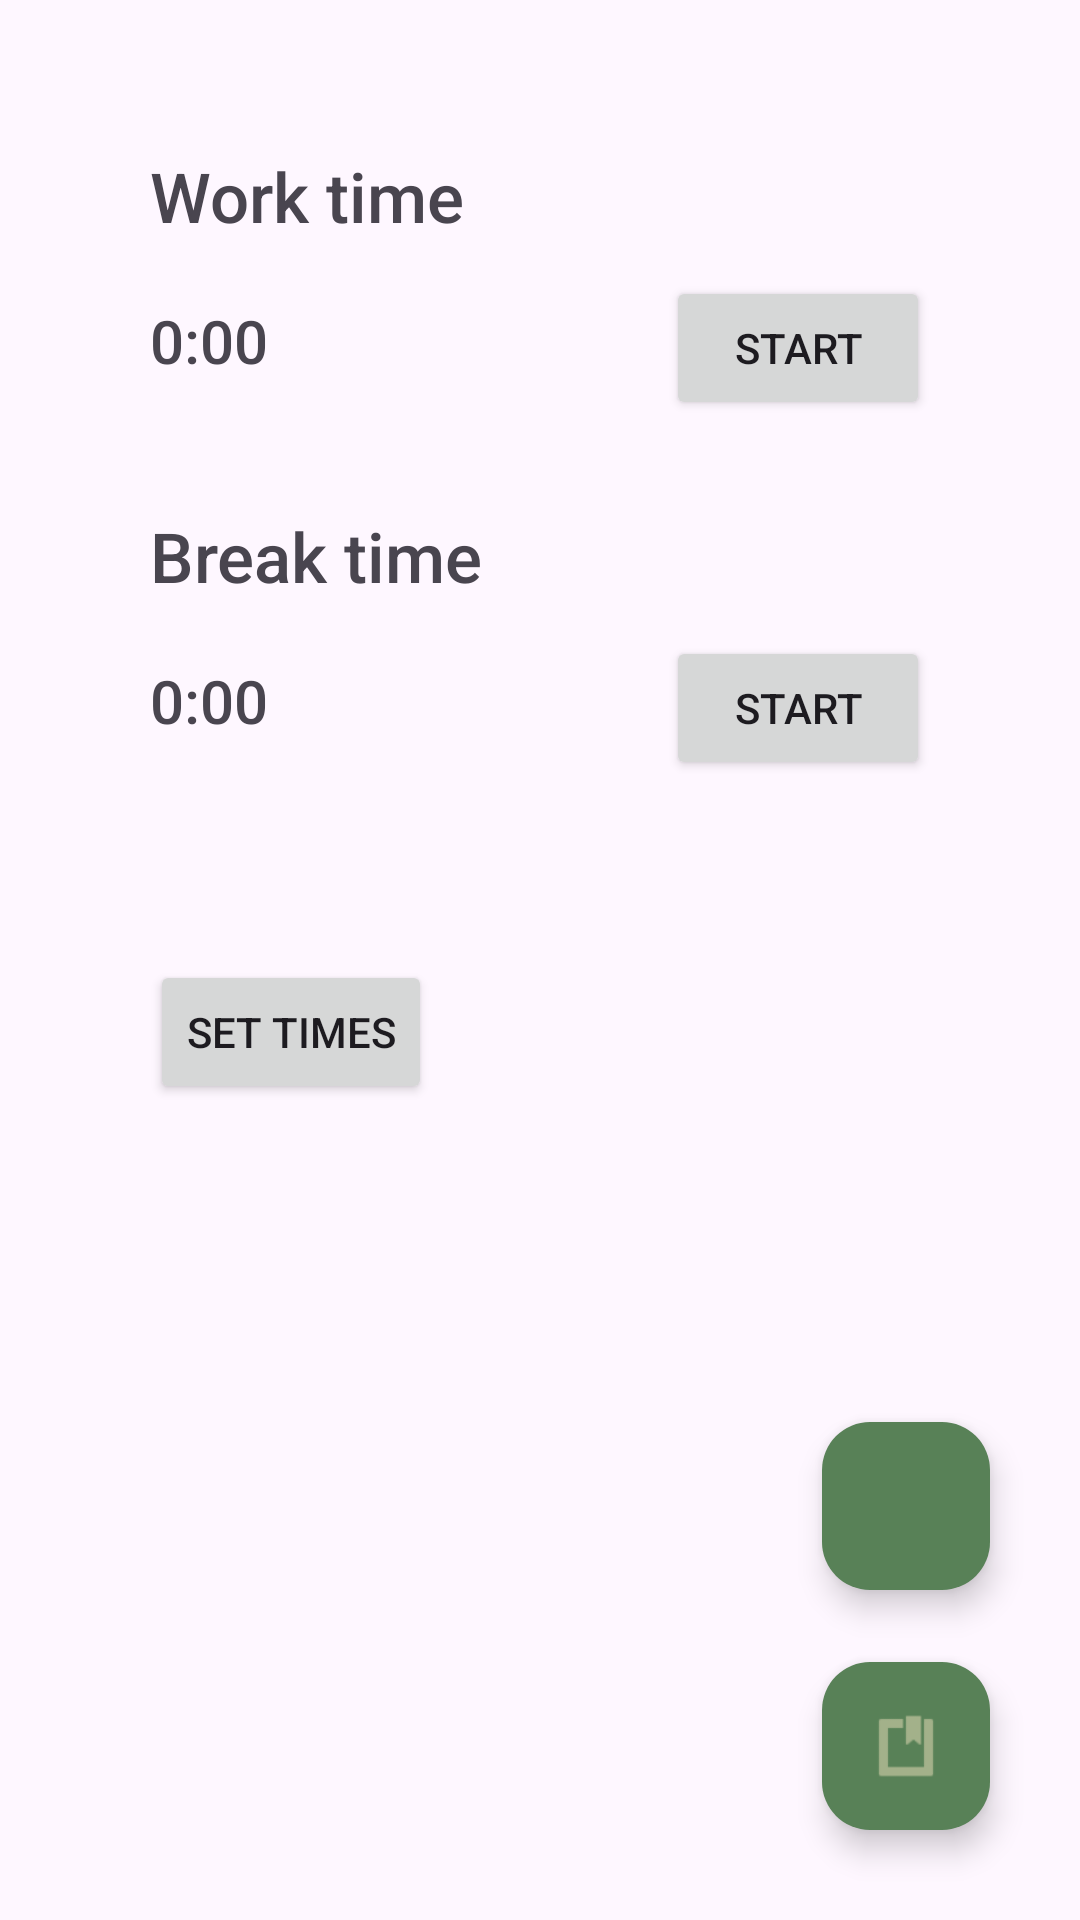

Icons on this 1080px×1920px Android screen, each with the point to tap as [x,y]:
Open notes: [906,1746]
